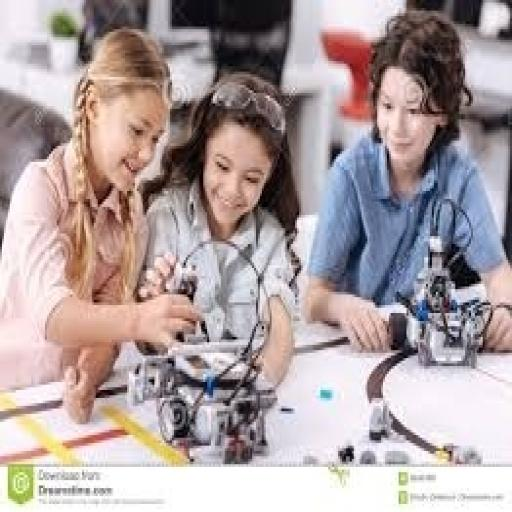sitting: (0, 23, 201, 424), (299, 8, 510, 355), (135, 69, 303, 390)
